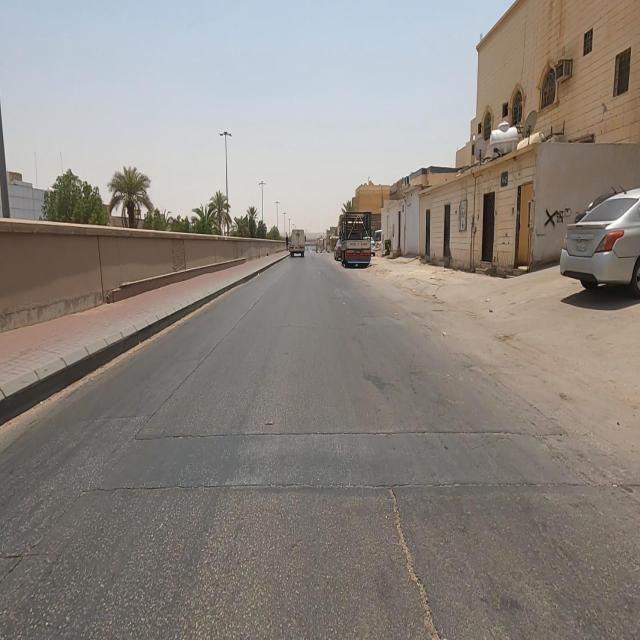Graffiti: (544, 204, 570, 228)
